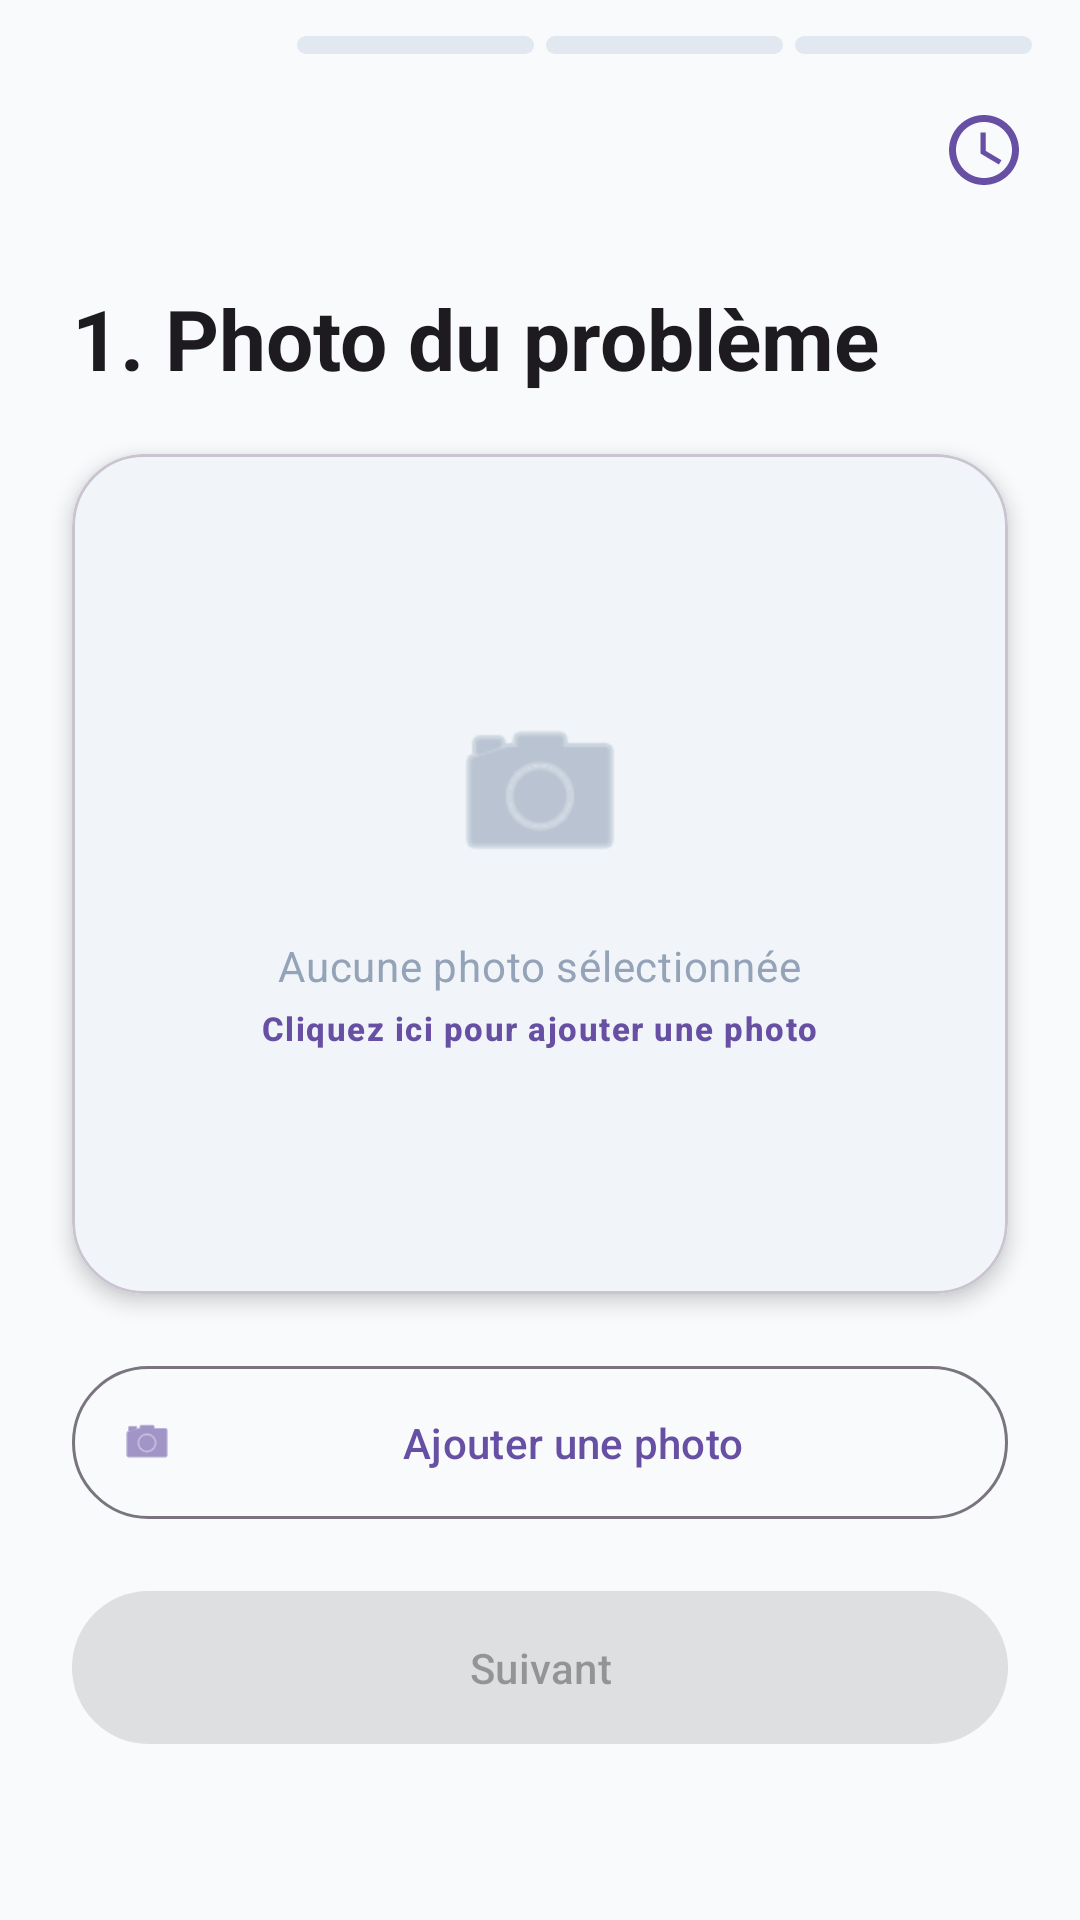

Icon click points for this 1080px×1920px phone screenshot, format (x,y):
camera: (540,790)
